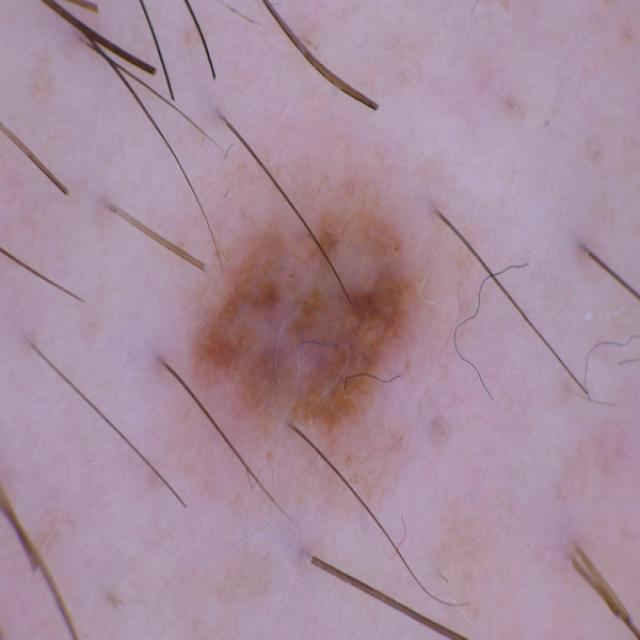NV: (177, 161, 446, 481)
